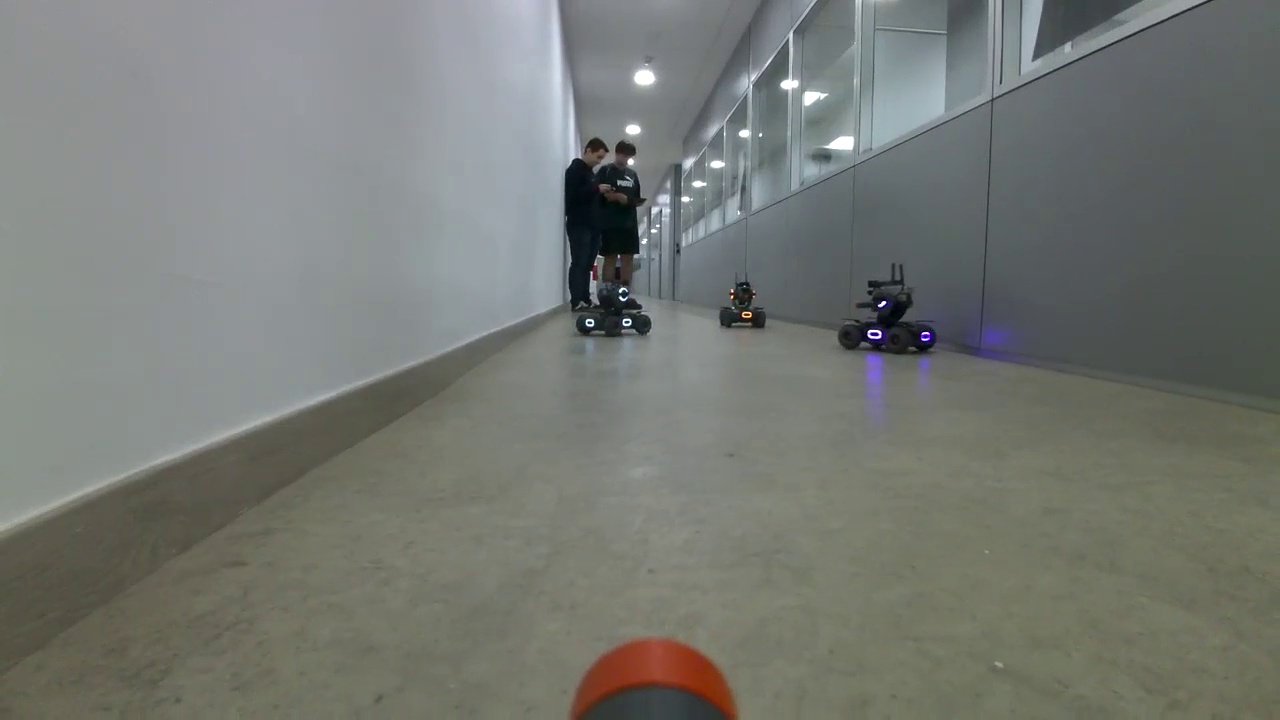robot: (836, 279, 940, 358), (576, 282, 652, 339), (718, 279, 767, 332)
